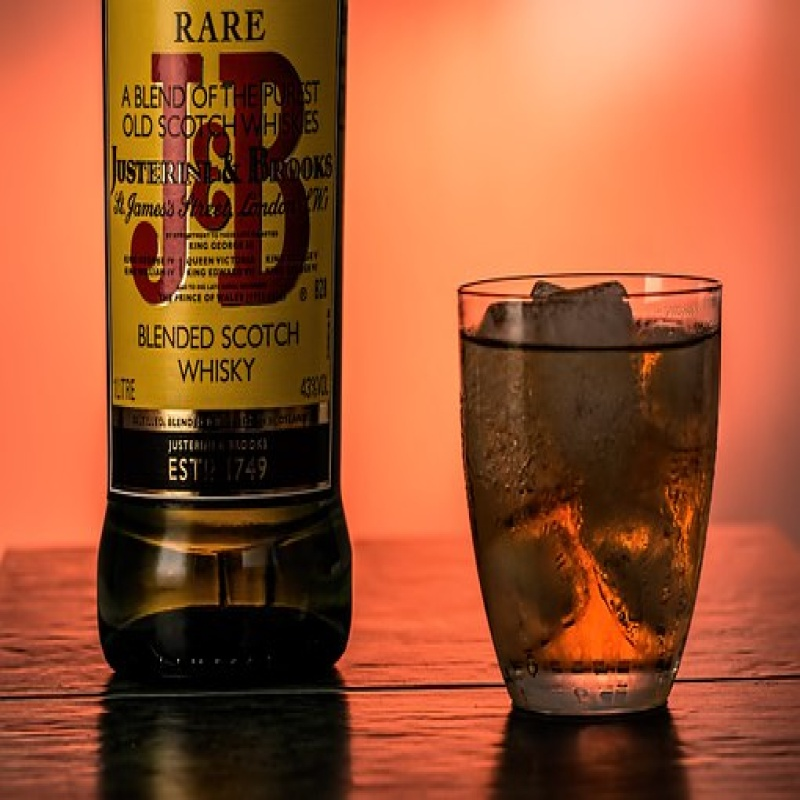whiskey: (454, 275, 715, 704)
